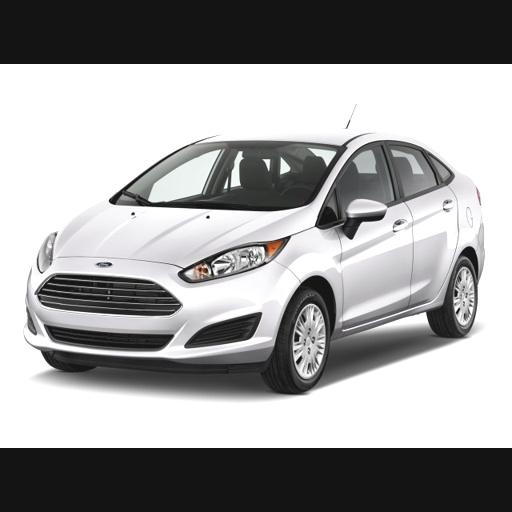hatchback: (24, 128, 483, 390)
